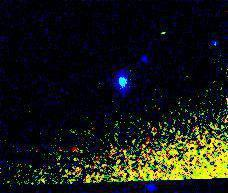star: (151, 17, 181, 47)
